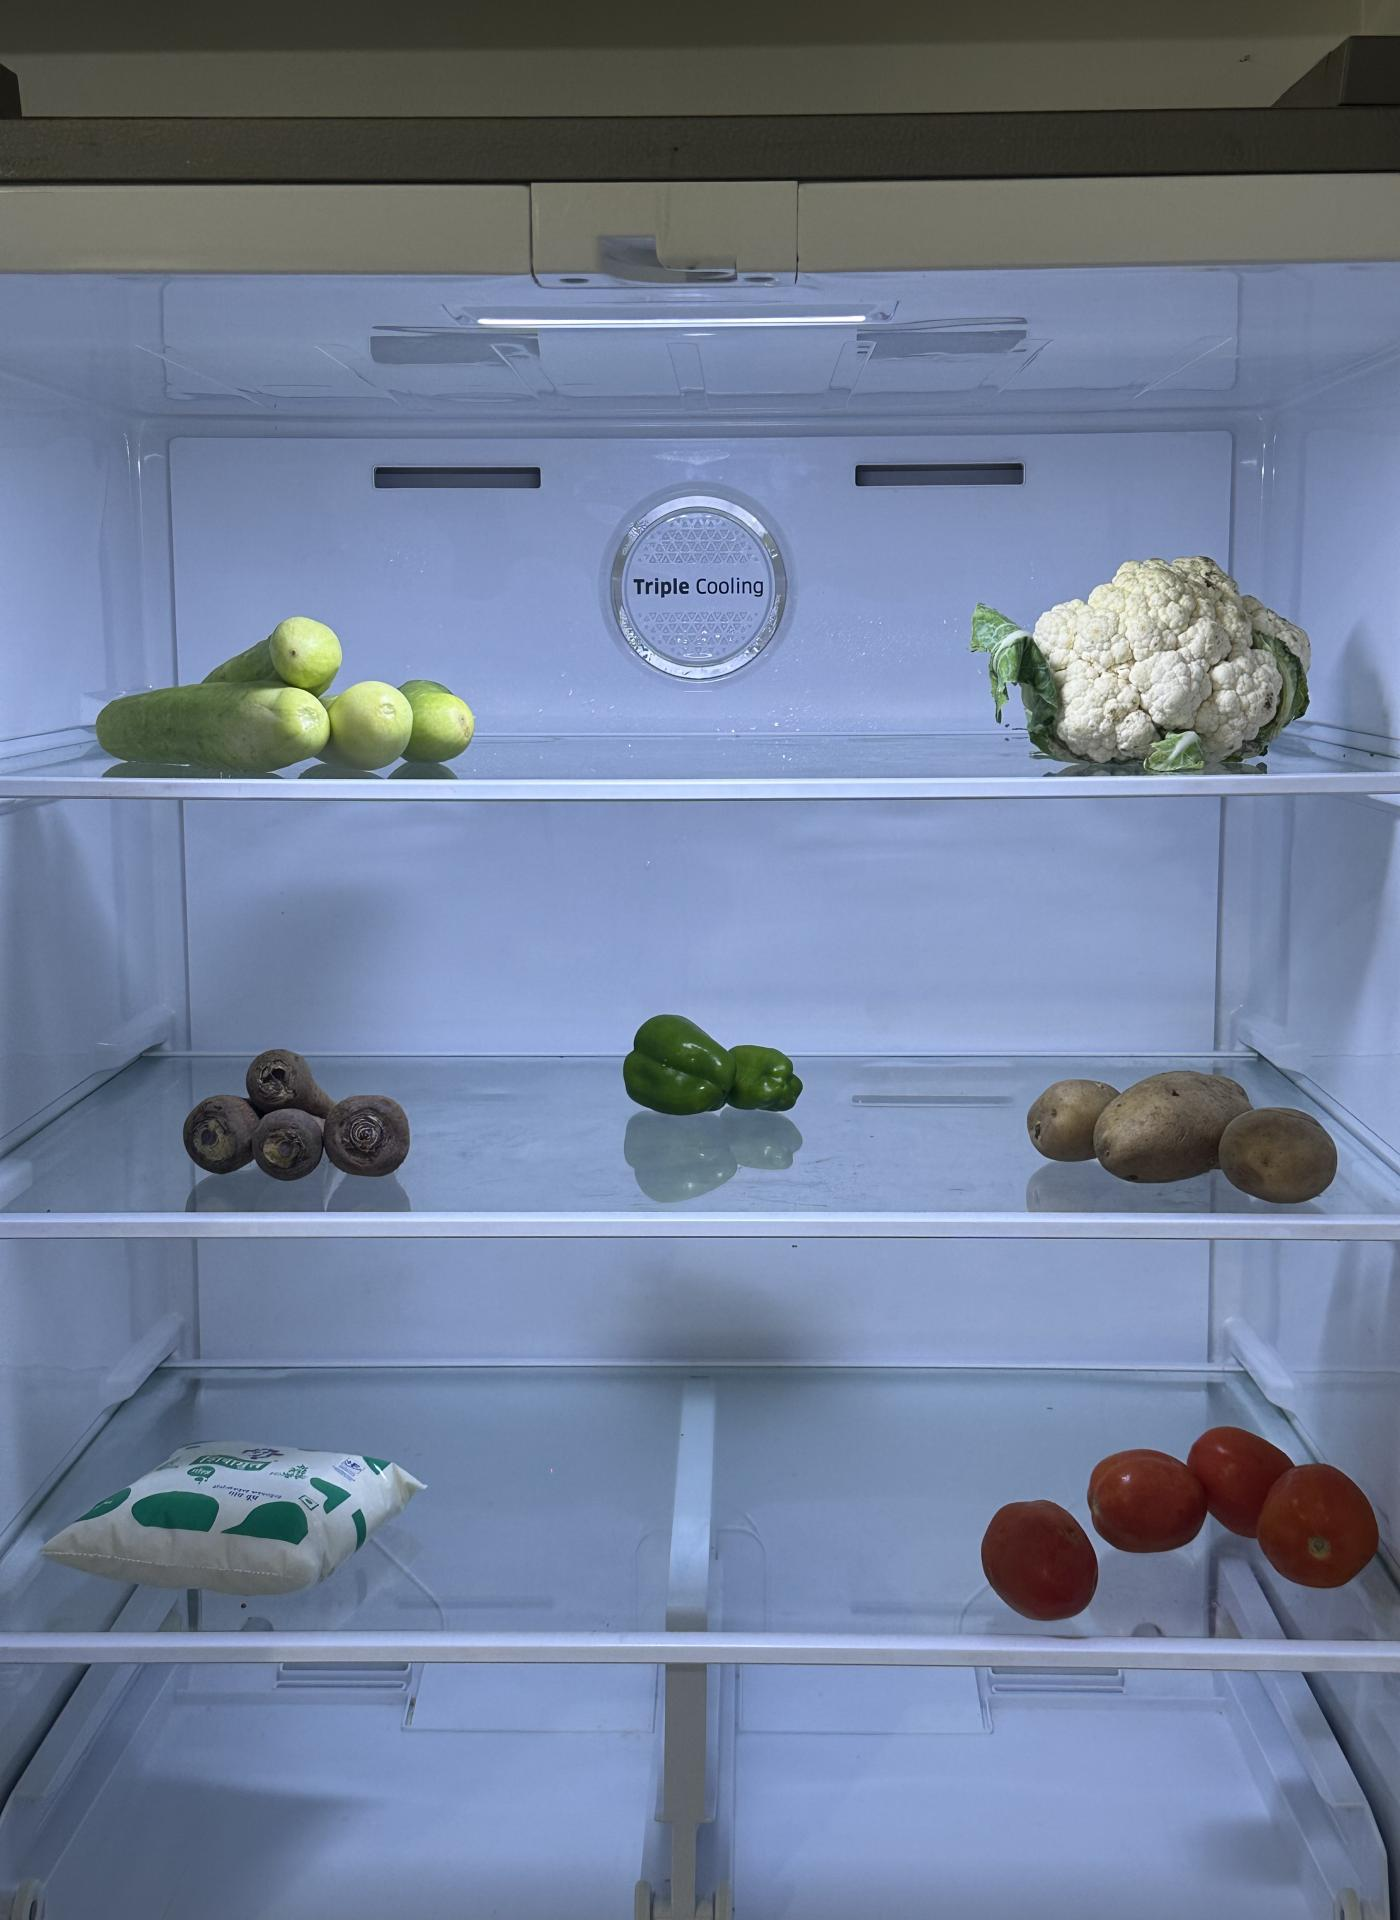capsicum: (611, 996, 813, 1115)
carrots: (171, 1020, 432, 1187)
cauliflower: (1005, 540, 1324, 783)
cucumber: (103, 611, 480, 784)
milk: (66, 1434, 413, 1588)
potato: (1015, 1067, 1339, 1210)
tomato: (991, 1421, 1369, 1614)
